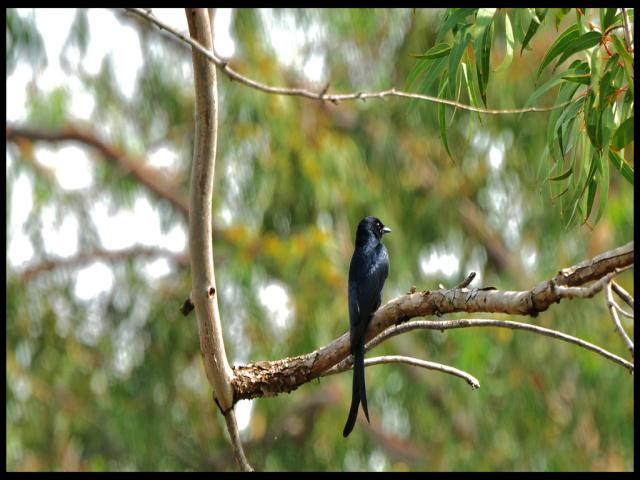Bird: (346, 212, 394, 436)
